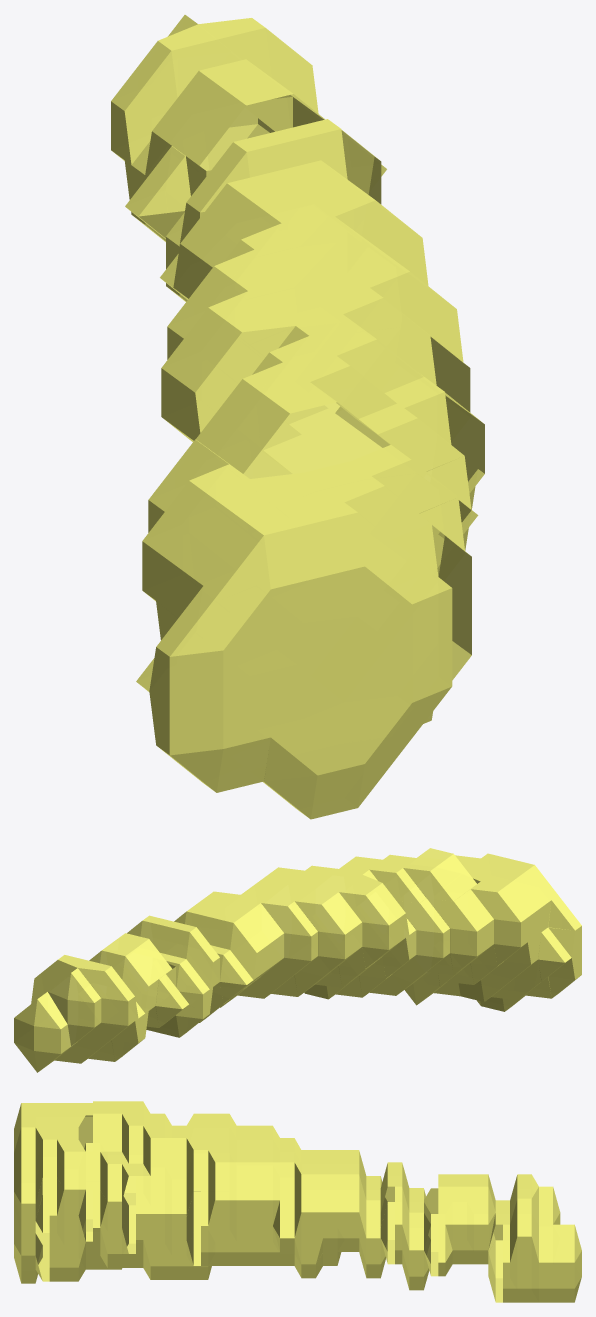
The model's file is SVV_BWM-VL08.gltf.
3 views of the same model, one above another, from view 1: azimuth 30°, elevation 25°; view 2: azimuth 150°, elevation 25°; view 3: azimuth 270°, elevation 25° (orthographic). The views are drawn at different scales.
Visible parts, largest first — view 1: BWM-VL08; view 2: BWM-VL08; view 3: BWM-VL08.
Boxes of the visible parts, box(x1,y1,x2,y2) form: BWM-VL08: box(111, 15, 484, 819); BWM-VL08: box(14, 848, 581, 1072); BWM-VL08: box(14, 1101, 581, 1302).
Bounding box in the file's own units: 6652 × 3578 × 10116.
